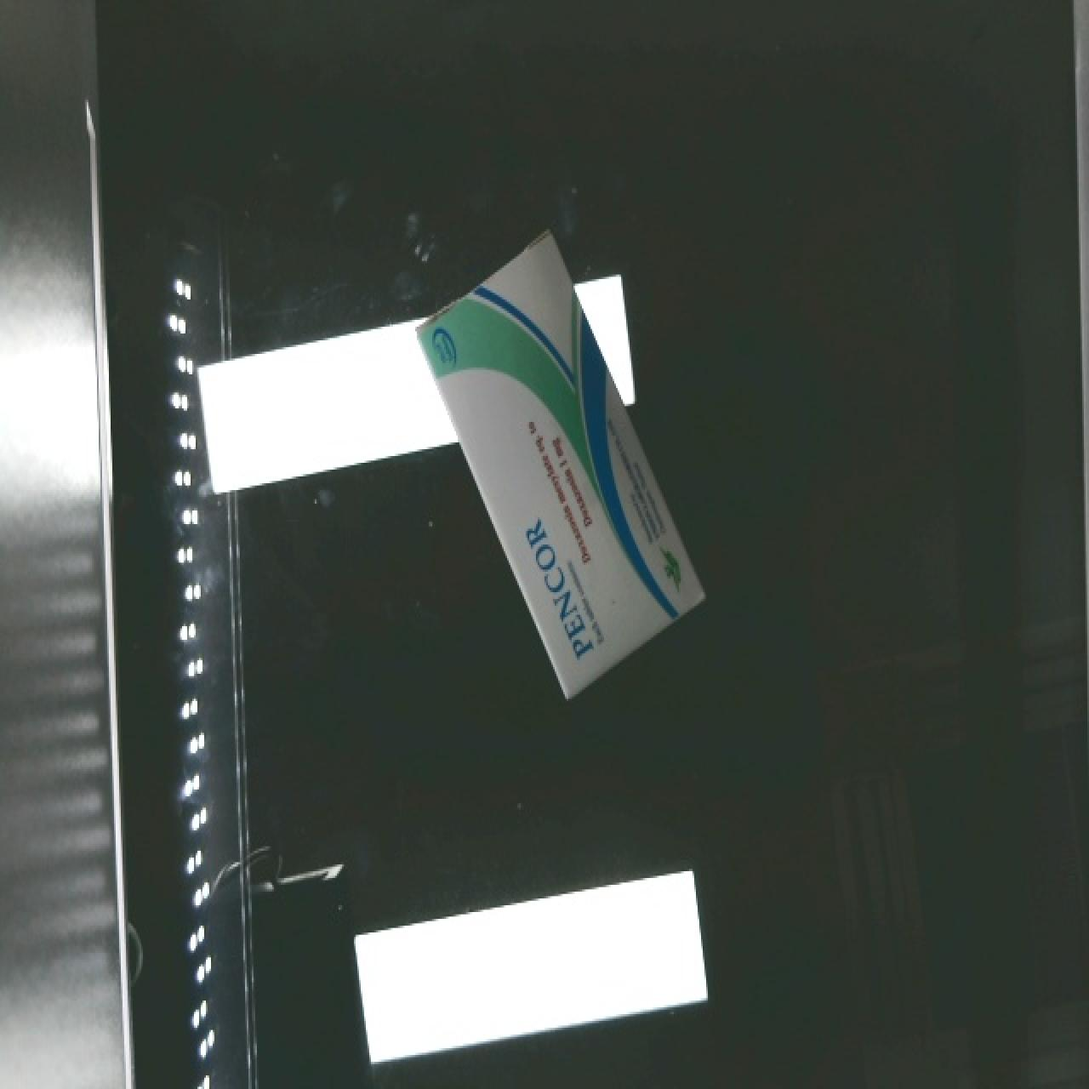medicine_label_obb: (502, 497, 625, 682)
